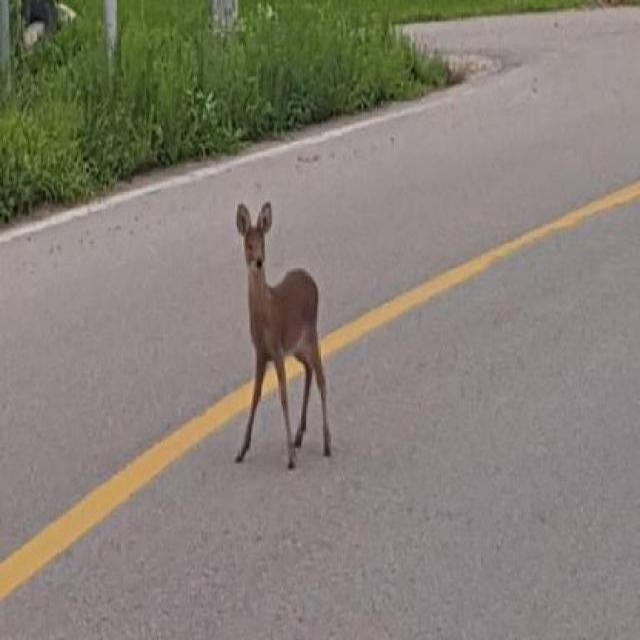deer: (232, 193, 336, 476)
